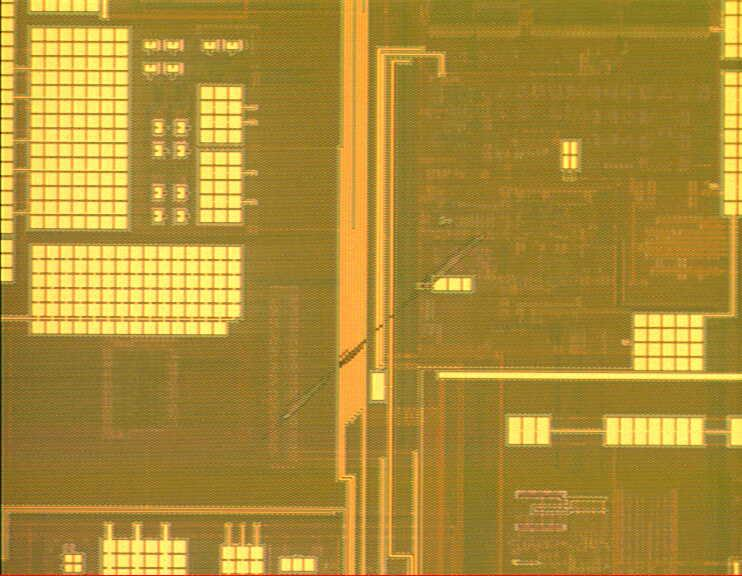SCRATCH: (263, 221, 498, 435)
